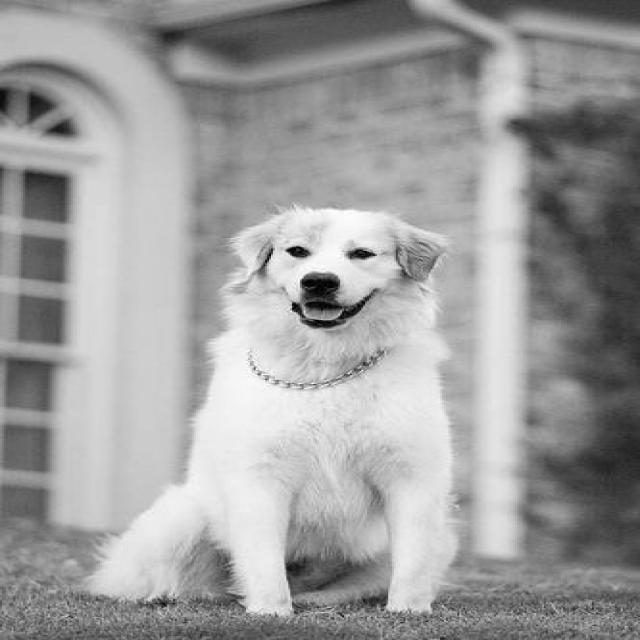sitting: (77, 203, 482, 622)
